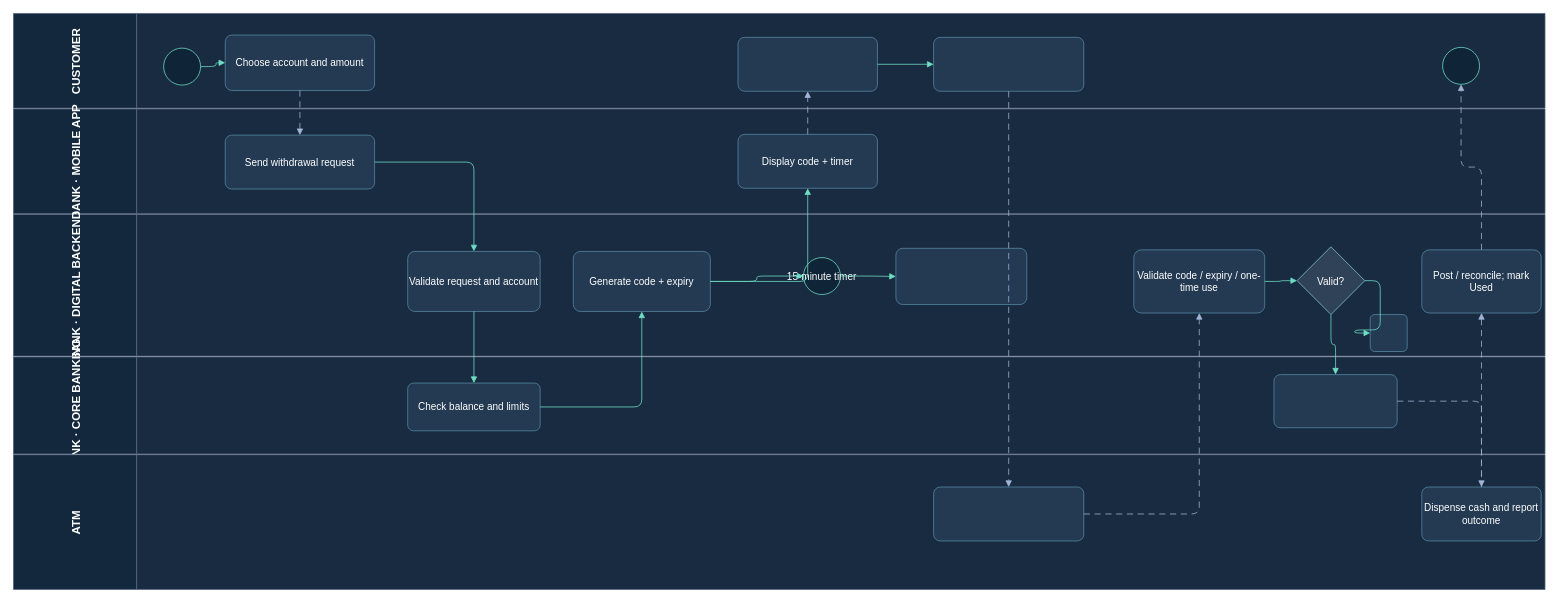
This 1558x603 diagram has some shape labels left out. The centre of each missing label's shape, as x and y in pixels:
"Cash collected" goes at point 1461,65.
"Code rejected" goes at point 1388,333.
"Expire if active" goes at point 961,276.
"Go to ATM and enter code" goes at point 1008,64.
"Receive code" goes at point 807,64.
"Reserve funds" goes at point 1335,401.
"Send code for verification" goes at point 1008,513.
"Start" goes at point 182,66.
